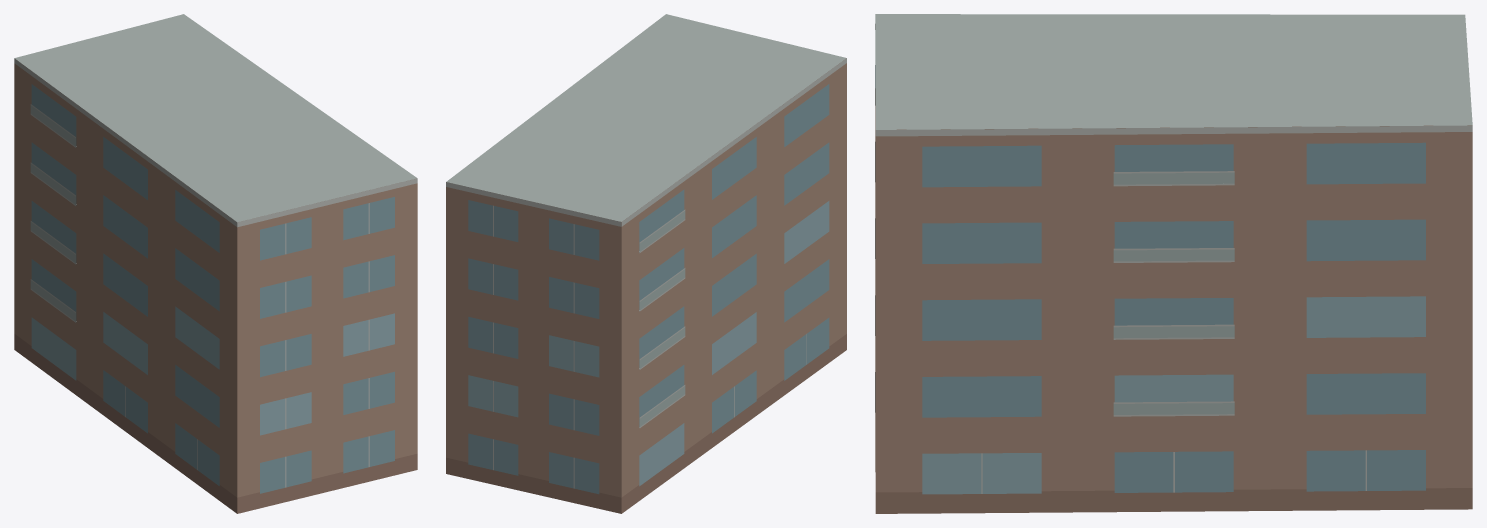
The model's file is survey-upis-32761421.glb.
3 views of the same model, side by side, from view 1: azimuth 30°, elevation 25°; view 2: azimuth 150°, elevation 25°; view 3: azimuth 270°, elevation 25° (orthographic). The views are drawn at different scales.
Visible parts, largest first — view 1: survey-upis-32761421.tmp; view 2: survey-upis-32761421.tmp; view 3: survey-upis-32761421.tmp.
Part boxes in pixels (<box>): survey-upis-32761421.tmp: <box>14,14,417,513</box>; survey-upis-32761421.tmp: <box>446,14,846,513</box>; survey-upis-32761421.tmp: <box>875,14,1472,513</box>.
Bounding box in the file's own units: 9.3 × 14.35 × 20.25.
